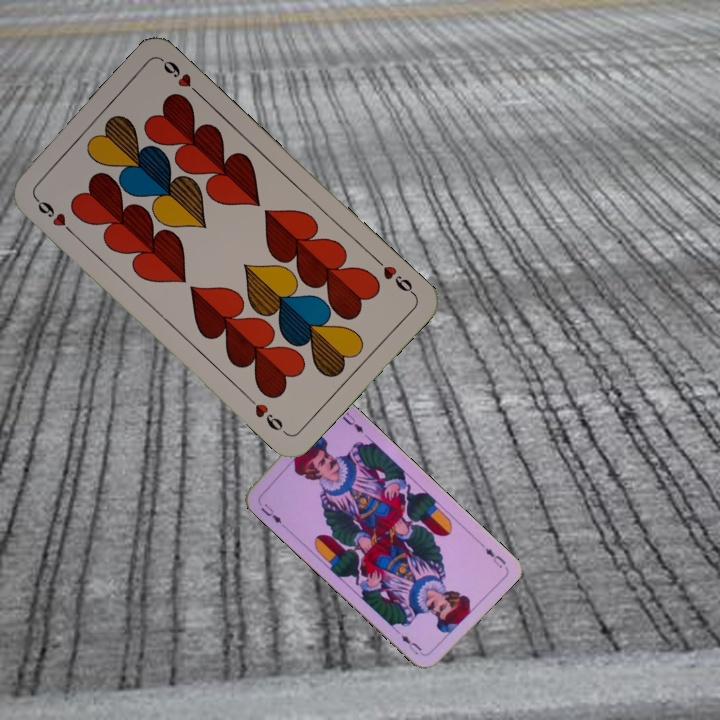EU: (254, 497, 287, 528), (481, 544, 509, 571)
H9: (370, 253, 418, 298), (31, 193, 78, 238)
